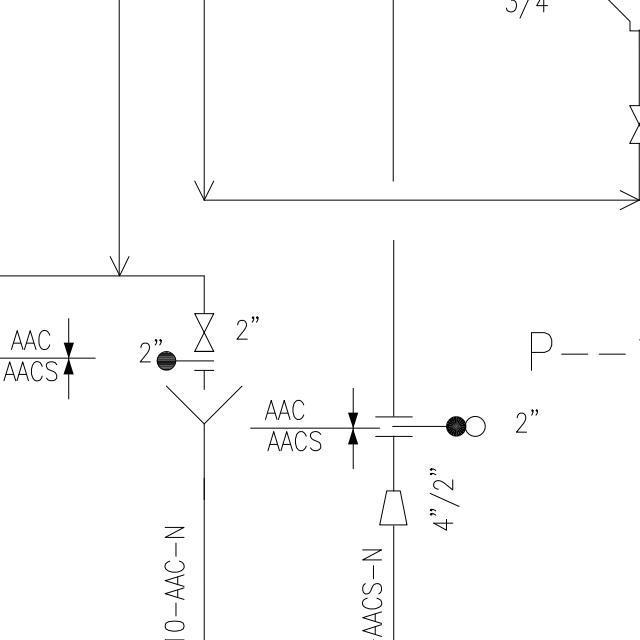GV: (189, 307, 217, 357)
SP: (375, 487, 413, 533)
